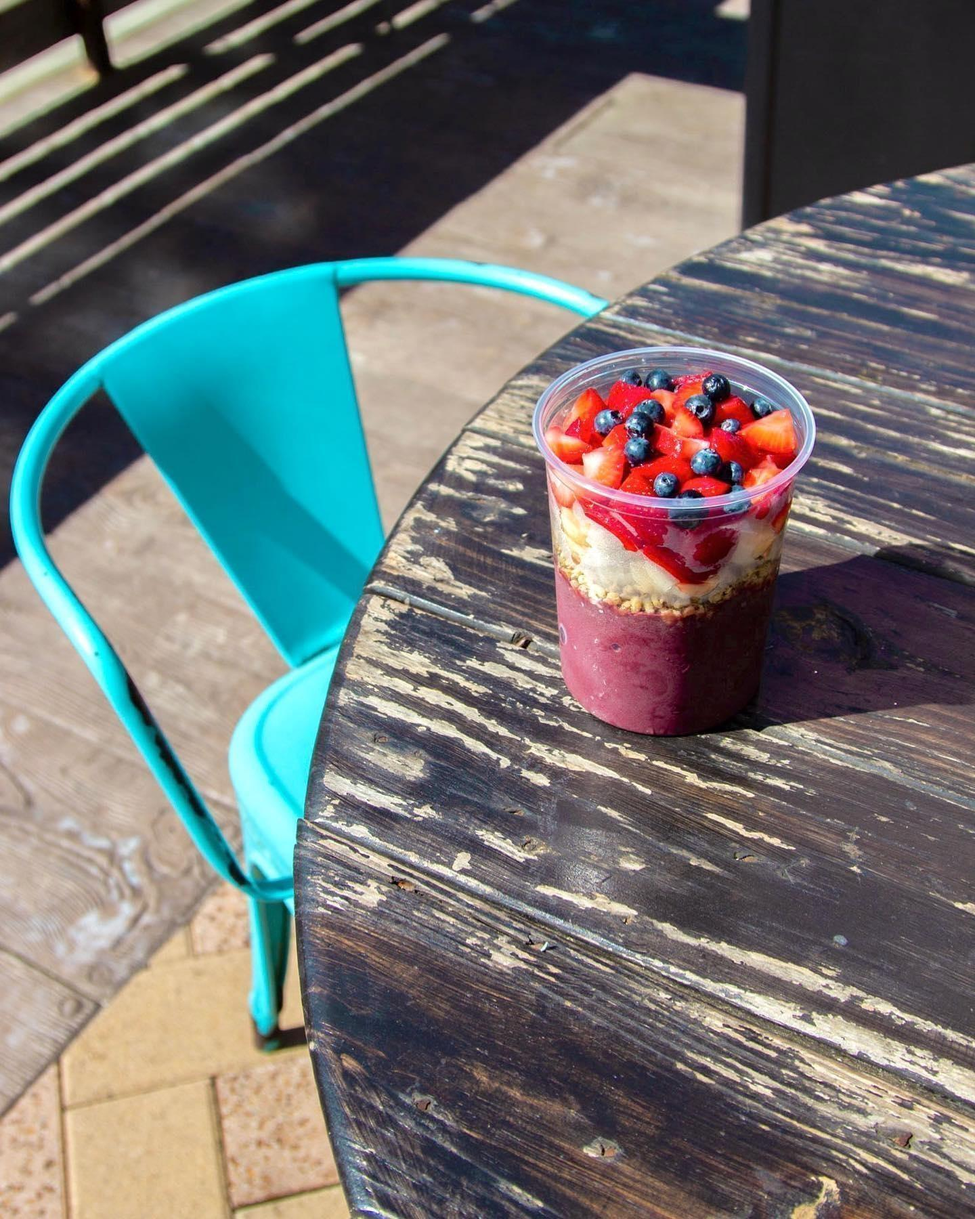cup-disposable: (527, 333, 827, 746)
